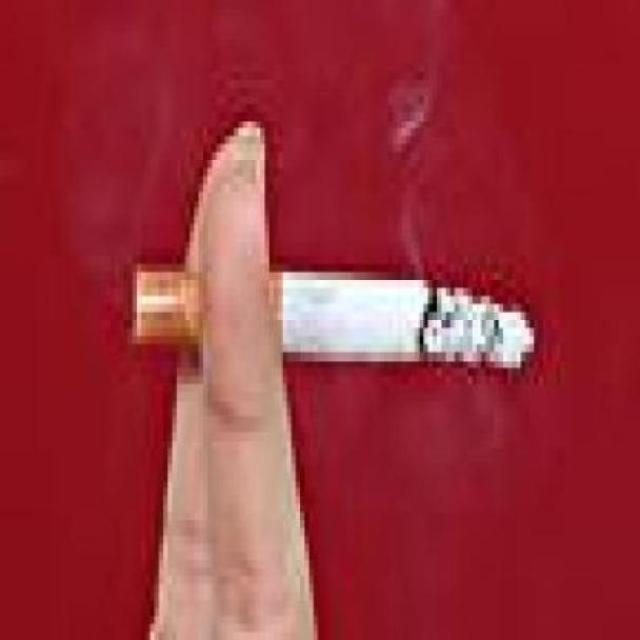rokok: (130, 260, 538, 370)
